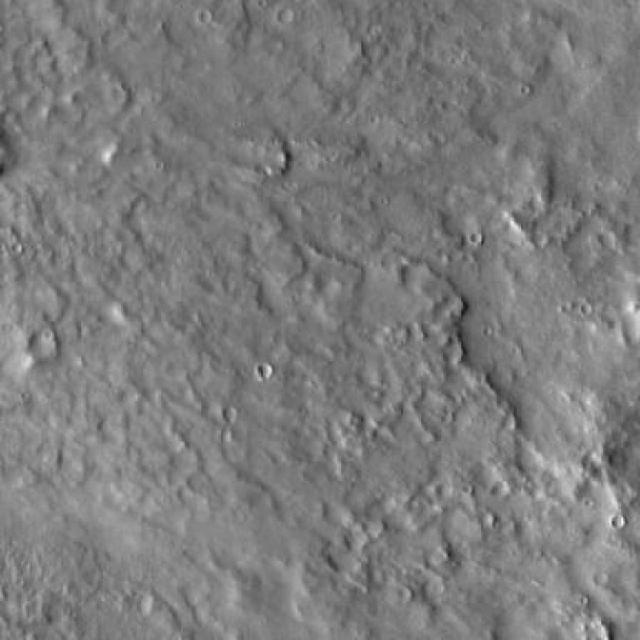crater: (30, 335, 59, 363)
